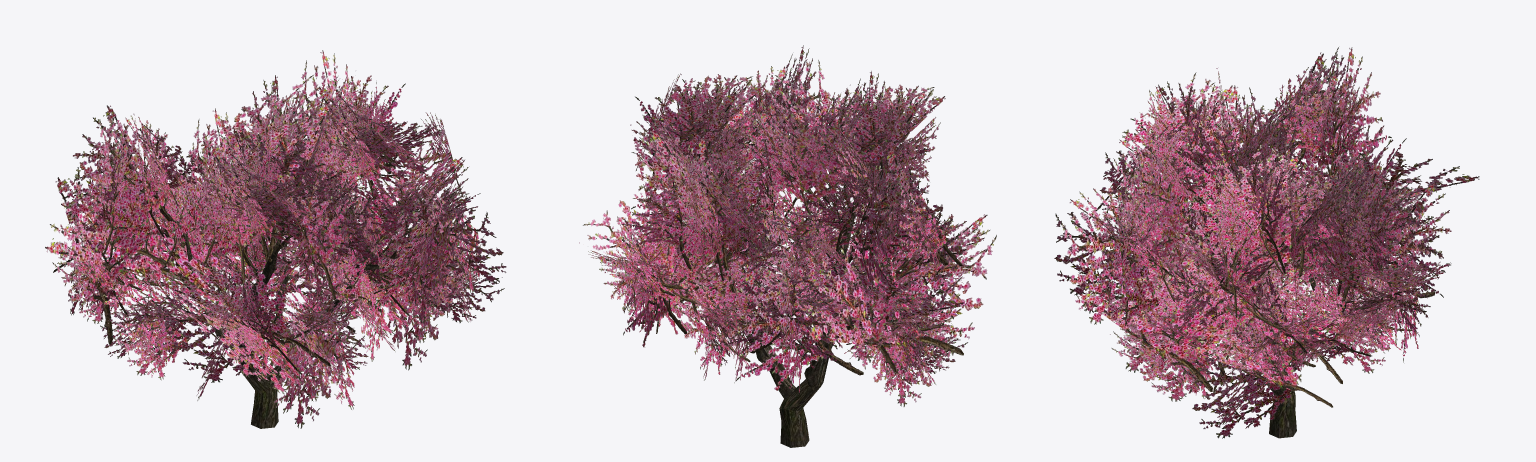
The model's file is taoshu.FBX.
3 renders of one model, left to right at view 1: azimuth 30°, elevation 25°; view 2: azimuth 150°, elevation 25°; view 3: azimuth 270°, elevation 25°, orthographic. The views are drawn at different scales.
Parts seen in each view (by area): view 1: taoshu103; view 2: taoshu103; view 3: taoshu103.
Part boxes in pixels (x1,y1,x2,y2): taoshu103: (45,50,506,428); taoshu103: (579,45,996,447); taoshu103: (1054,47,1479,438).
Bounding box in the file's own units: 12.05 × 10.01 × 12.22.
2 materials, 2 textured.
